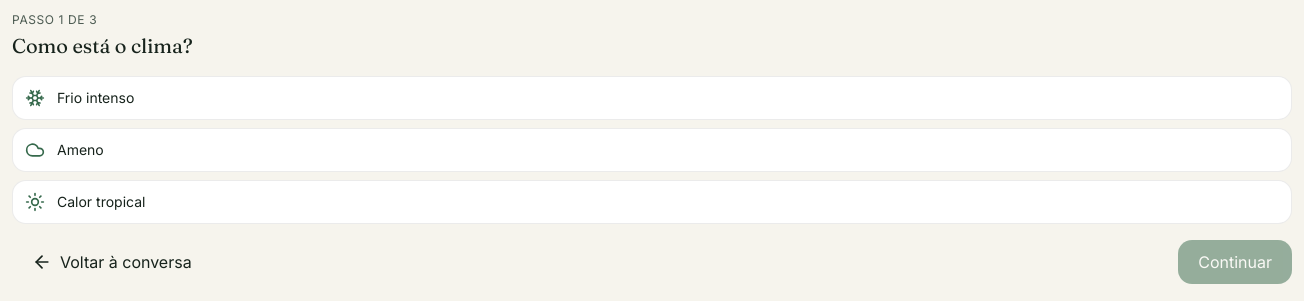
Test: trilha de descoberta do Nez › começa pelo clima e só avança depois de escolher
Expected: the text "Passo 1 de 3" is shown, [12,12,97,27]
Expected: the heading "Como está o clima?" is shown, [12,33,193,58]
Click the button "Ameno" at coordinates (80, 150), box [12,128,1292,172]
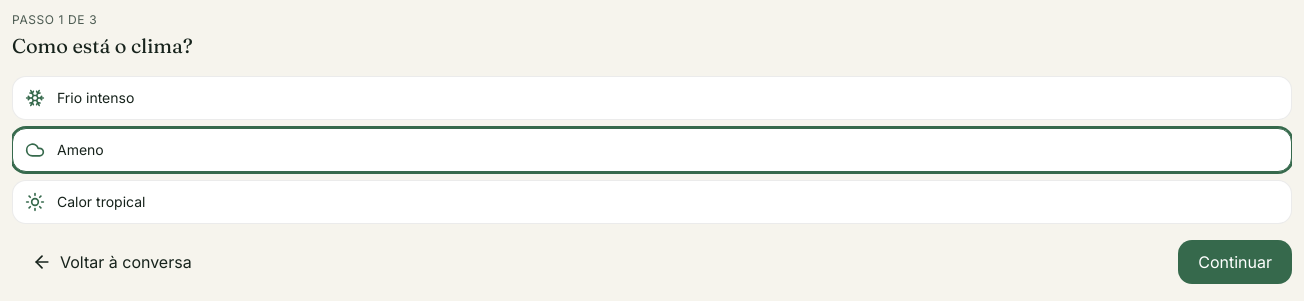
Expected: the button "Continuar" is enabled, [1178,240,1292,284]
